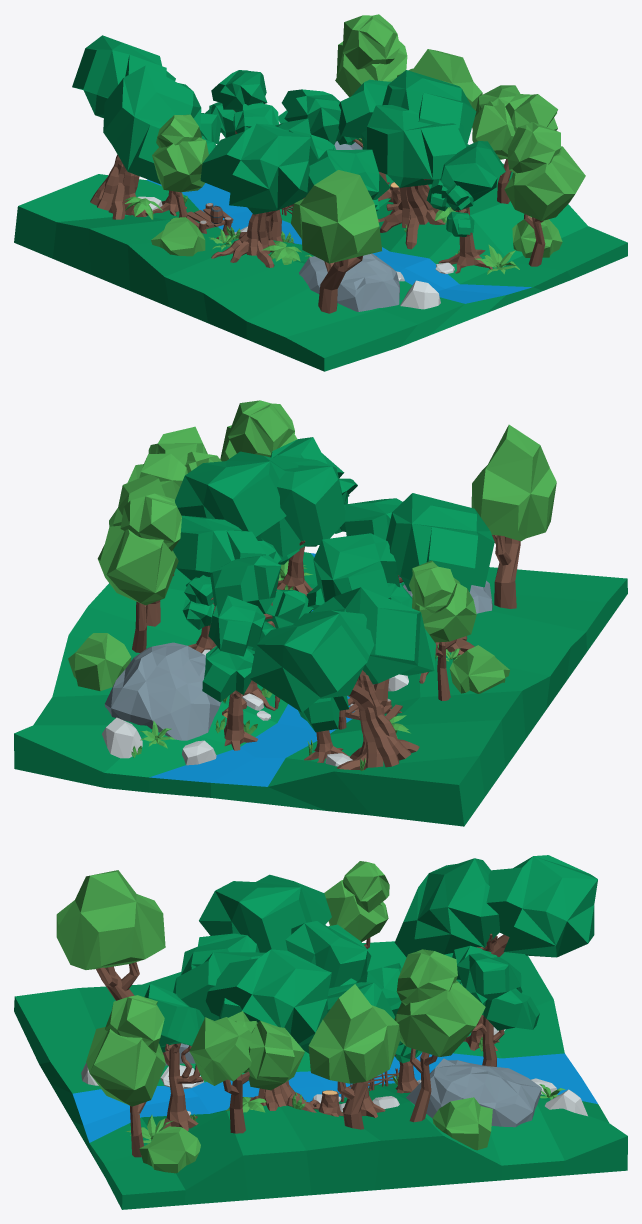
3 views of the same model, one above another, from view 1: azimuth 30°, elevation 25°; view 2: azimuth 150°, elevation 25°; view 3: azimuth 270°, elevation 25° (orthographic). The views are drawn at different scales.
Parts seen in each view (by area): view 1: group2009401224, group1489245576, group403363102, group547813215, group313951583, group1634341855, group2035836735, group1573540807, group506122935, group624080166, group443772894, group561706230 (+22 smaller); view 2: group2009401224, group624080166, group403363102, group1922369548, group2035836735, group1489245576, group443772894, group547813215, group1634341855, group506122935, group1180255365, group1890178627 (+23 smaller); view 3: group2009401224, group624080166, group403363102, group2035836735, group443772894, group1045676722, group1573540807, group547813215, group313951583, group1489245576, group1922369548, group506122935 (+15 smaller).
Boxes of the visible parts, <box> form: group2009401224: <box>14,110,627,371</box>; group1489245576: <box>200,123,310,214</box>; group403363102: <box>291,170,381,313</box>; group547813215: <box>103,65,201,184</box>; group313951583: <box>504,122,585,266</box>; group1634341855: <box>367,105,465,187</box>; group2035836735: <box>335,14,407,96</box>; group1573540807: <box>472,85,557,203</box>; group506122935: <box>152,114,208,217</box>; group624080166: <box>72,35,175,118</box>; group443772894: <box>382,70,476,146</box>; group561706230: <box>299,253,399,311</box>; group2009401224: <box>14,552,627,826</box>; group624080166: <box>250,610,374,712</box>; group403363102: <box>471,424,556,608</box>; group1922369548: <box>104,642,221,740</box>; group2035836735: <box>97,493,181,652</box>; group1489245576: <box>386,493,494,592</box>; group443772894: <box>175,451,298,540</box>; group547813215: <box>310,587,435,684</box>; group1634341855: <box>260,455,345,557</box>; group506122935: <box>409,560,476,700</box>; group1180255365: <box>313,533,399,602</box>; group1890178627: <box>173,515,265,580</box>; group2009401224: <box>14,941,627,1209</box>; group624080166: <box>486,855,597,957</box>; group403363102: <box>56,870,165,1000</box>; group2035836735: <box>394,949,485,1122</box>; group443772894: <box>205,949,331,1045</box>; group1045676722: <box>308,984,400,1129</box>; group1573540807: <box>189,1011,304,1133</box>; group547813215: <box>394,858,500,957</box>; group313951583: <box>86,995,165,1157</box>; group1489245576: <box>199,874,331,952</box>; group1922369548: <box>406,1058,541,1127</box>; group506122935: <box>324,861,389,948</box>.
Size of the model in its own units: 140 by 58.1 by 152.
